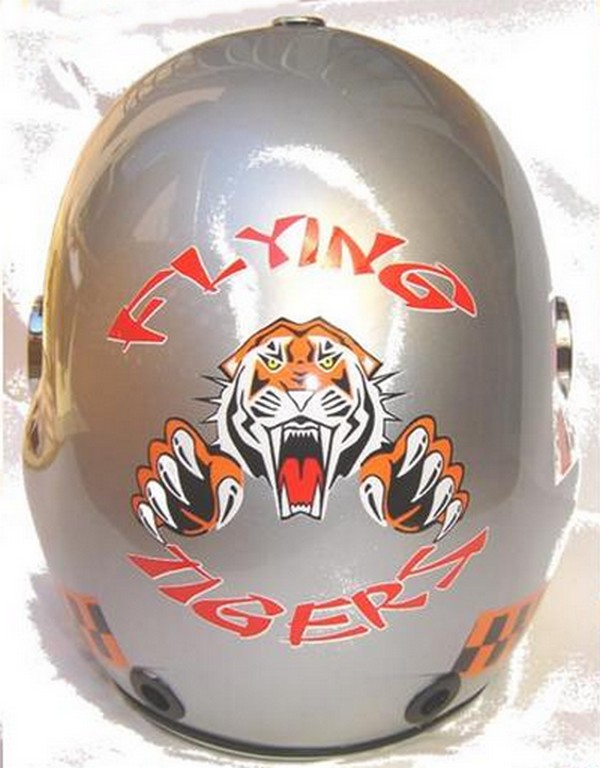helmet: (45, 53, 573, 721)
